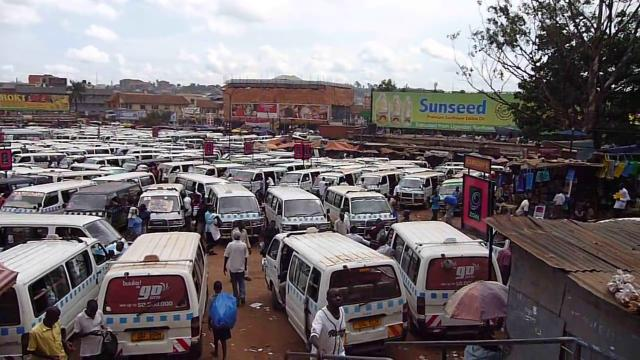van: (262, 233, 405, 347), (2, 233, 115, 357), (98, 231, 206, 360), (381, 221, 499, 337), (2, 212, 119, 268), (321, 184, 397, 240), (64, 180, 147, 230), (263, 185, 333, 240), (1, 179, 99, 218), (201, 183, 264, 242), (171, 172, 233, 215), (135, 186, 190, 234), (438, 174, 490, 213), (317, 162, 378, 194), (394, 171, 444, 209), (228, 165, 288, 196), (354, 166, 410, 198), (281, 165, 339, 195), (88, 172, 153, 197), (158, 160, 208, 180)
